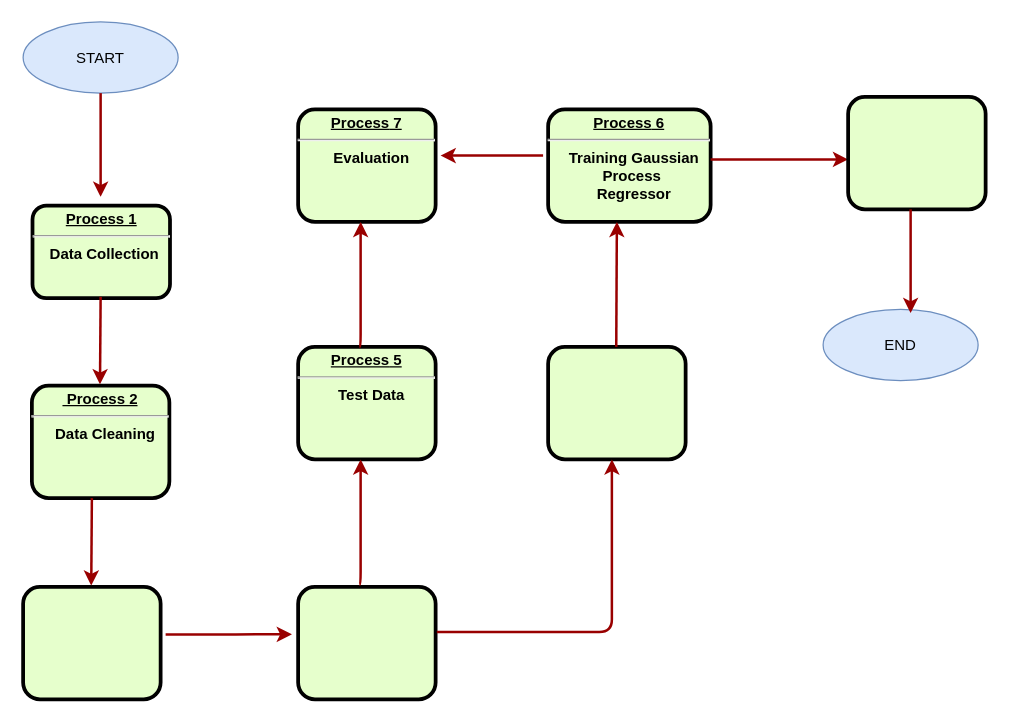
Some shapes in this 1009 by 723 pixel diagram are drawn without their labels. The box of each missing label's shape, as (x1, y1, x2, y2) in pixels:
Process 3 Synthetic Data Generation (using SMOTE): (21, 584, 162, 701)
Process 4 Splitting into train and test data: (296, 584, 437, 701)
Process 5 Training Data: (546, 344, 687, 461)
Process 8 Training Data: (846, 94, 987, 211)
